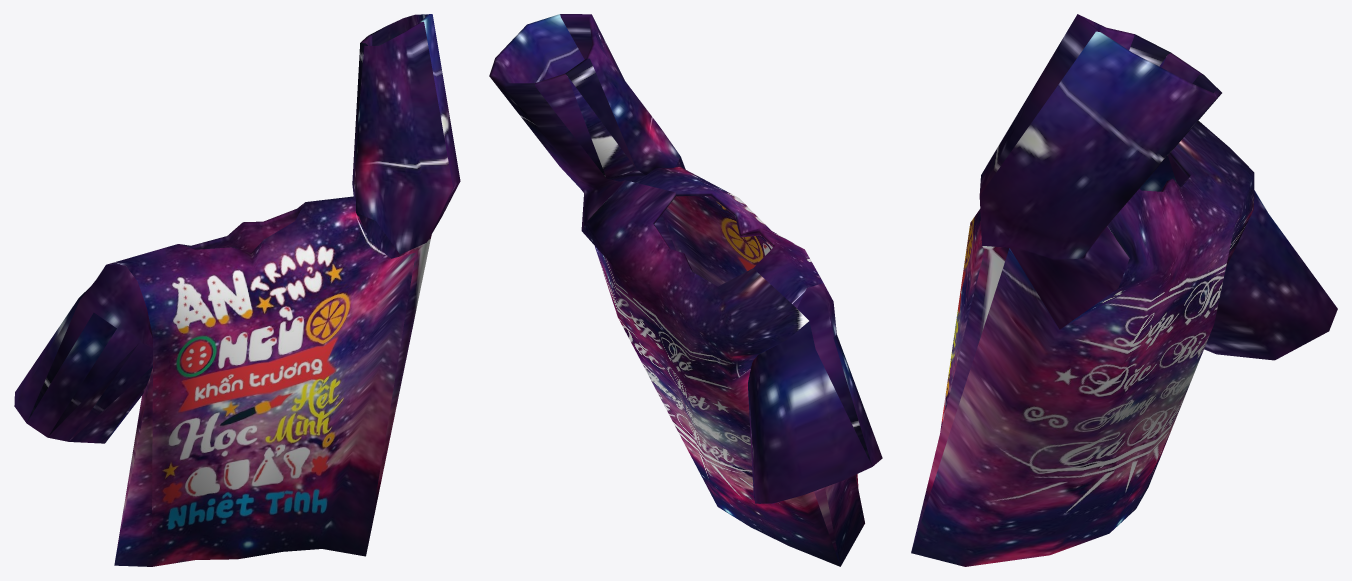
File: m-top8.fbx
3 renders of one model, left to right at view 1: azimuth 30°, elevation 25°; view 2: azimuth 150°, elevation 25°; view 3: azimuth 270°, elevation 25°, orthographic. The views are drawn at different scales.
Parts seen in each view (by area): view 1: M.Top.Short.007; view 2: M.Top.Short.007; view 3: M.Top.Short.007.
Boxes of the visible parts, bbox=[...] form: M.Top.Short.007: bbox=[14, 14, 460, 566]; M.Top.Short.007: bbox=[489, 14, 882, 566]; M.Top.Short.007: bbox=[911, 14, 1337, 566].
Size of the model in its own units: 537 by 637 by 384.
